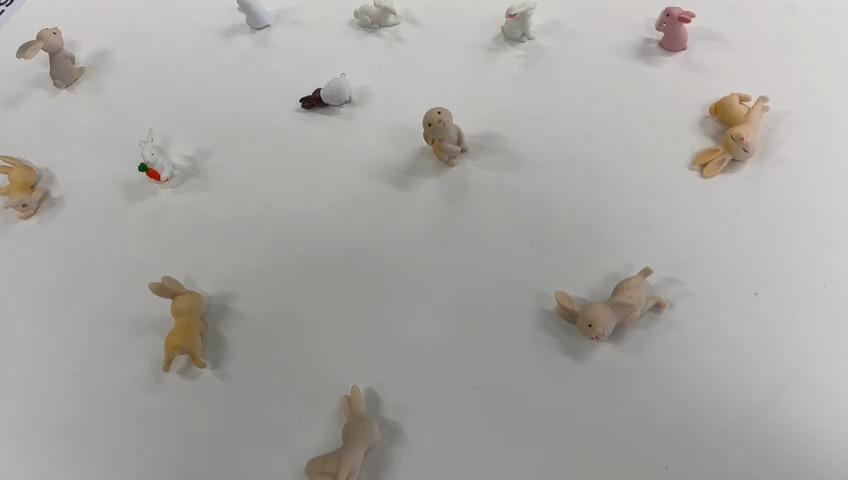pet: (541, 240, 667, 339), (1, 20, 128, 109), (143, 270, 232, 383), (296, 380, 385, 480), (683, 80, 766, 182), (121, 118, 216, 199), (416, 93, 494, 180), (0, 138, 66, 235), (293, 50, 366, 123), (488, 5, 547, 68), (648, 0, 703, 67), (231, 0, 302, 50), (336, 0, 426, 37)
